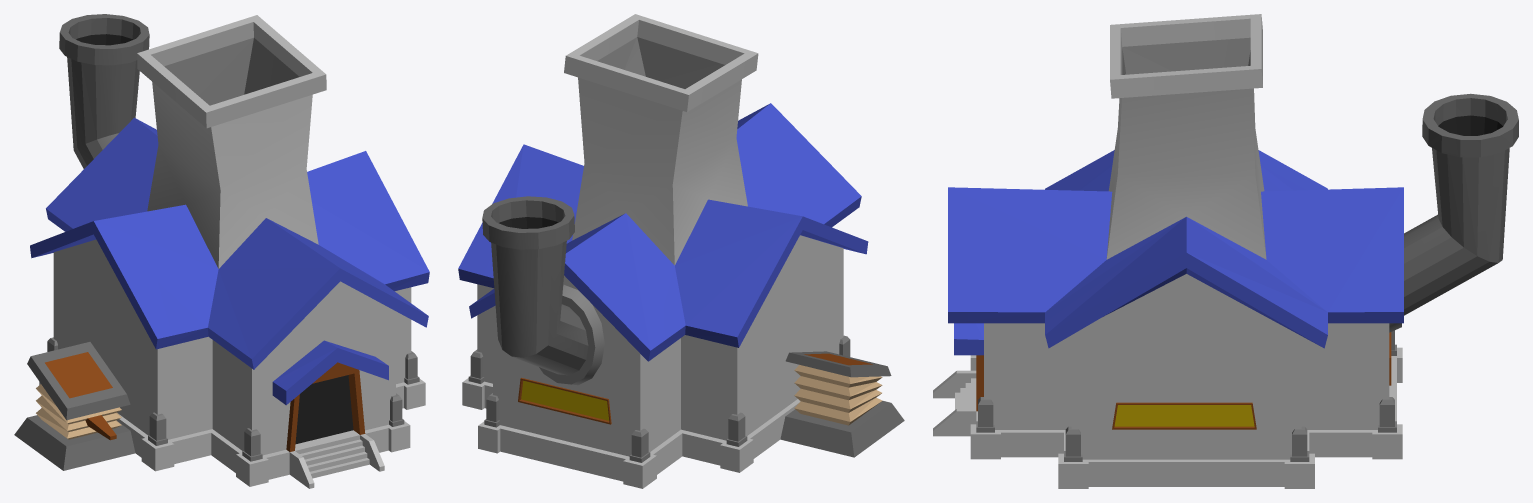
Rendered from Building_Human_Smith_Blue_01.fbx.
3 renders of one model, left to right at view 1: azimuth 30°, elevation 25°; view 2: azimuth 150°, elevation 25°; view 3: azimuth 270°, elevation 25°, orthographic. The views are drawn at different scales.
Visible parts, largest first — view 1: Building_Human_Smith_Blue_01; view 2: Building_Human_Smith_Blue_01; view 3: Building_Human_Smith_Blue_01.
Boxes of the visible parts, <box> form: Building_Human_Smith_Blue_01: <box>14,14,429,488</box>; Building_Human_Smith_Blue_01: <box>458,14,904,488</box>; Building_Human_Smith_Blue_01: <box>933,14,1518,488</box>.
Bounding box in the file's own units: 400 × 386 × 541.
